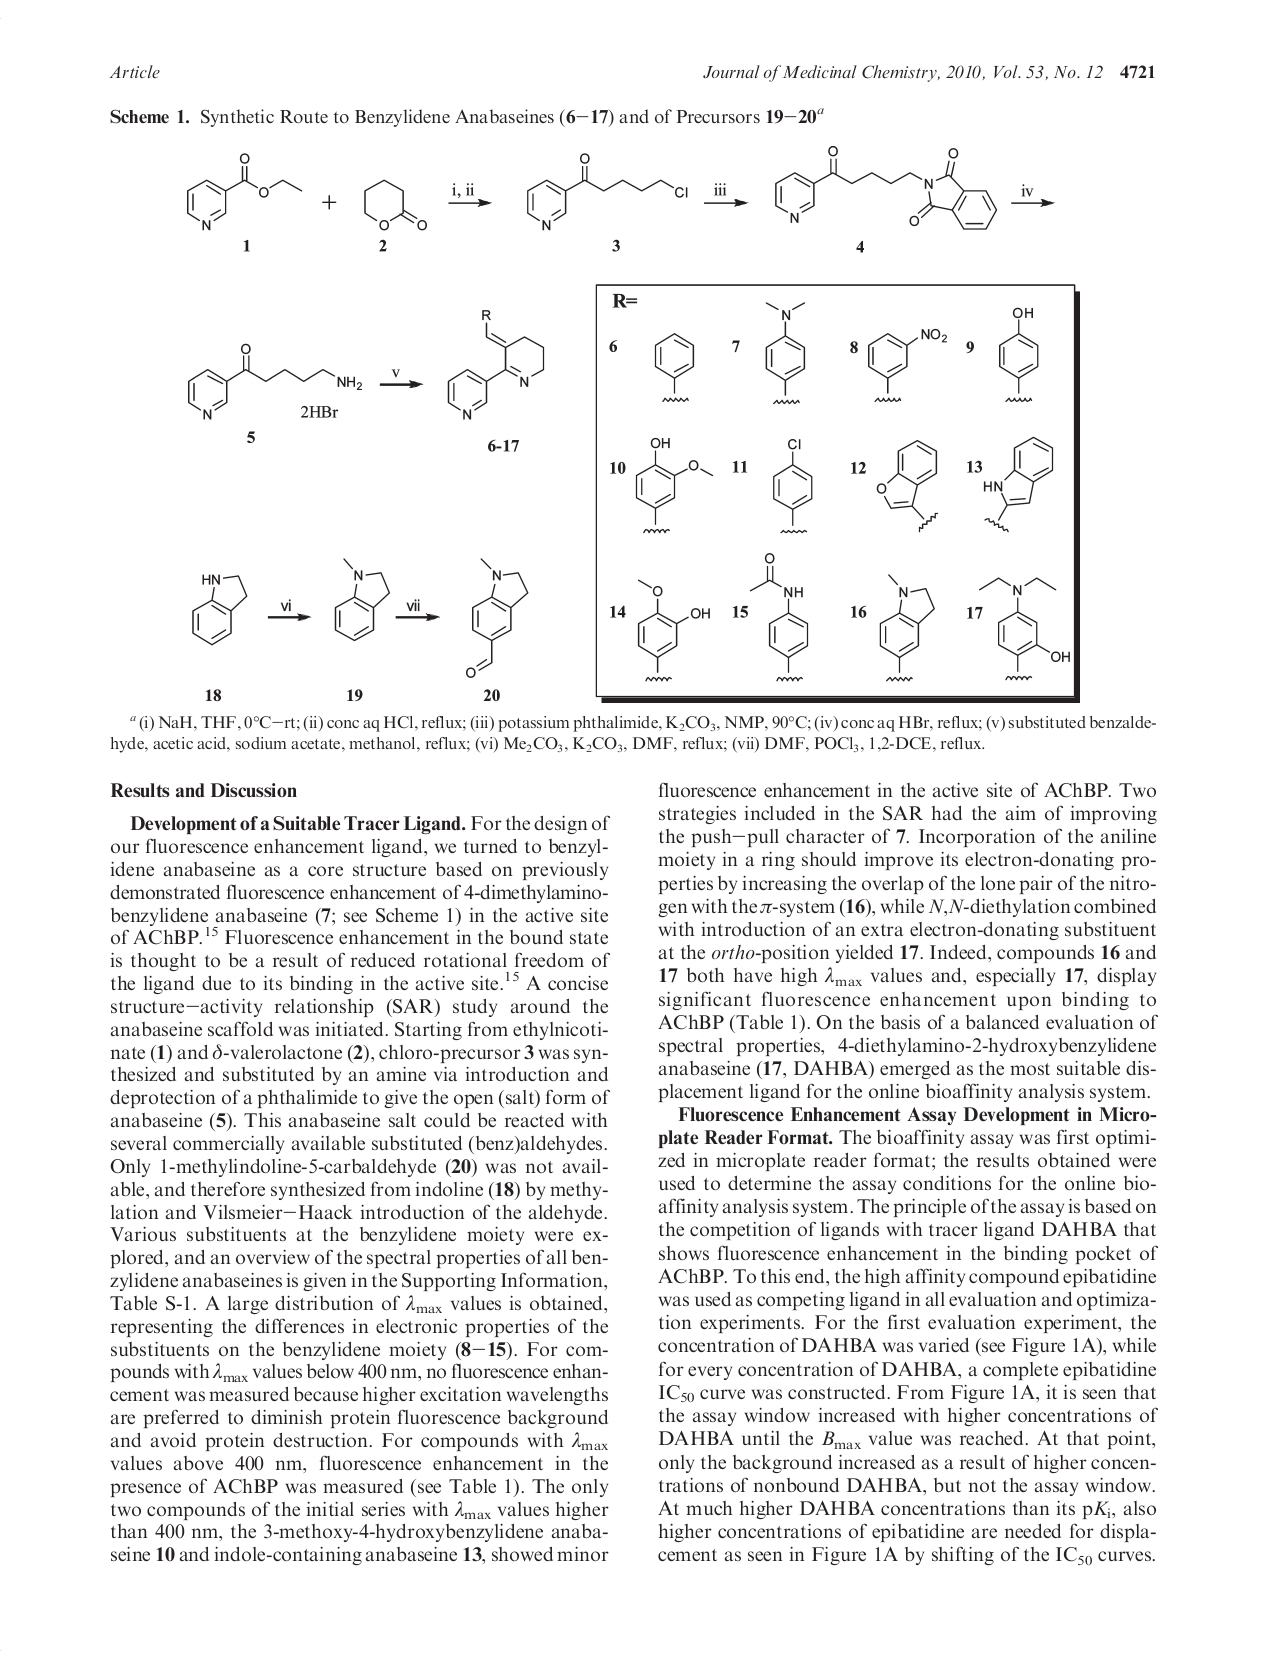exist_molecular: (769, 141, 1004, 231), (182, 339, 368, 431), (523, 148, 692, 237), (436, 307, 560, 426), (452, 549, 532, 685), (174, 156, 310, 233), (977, 567, 1060, 692), (630, 431, 719, 543), (750, 545, 818, 684), (632, 577, 715, 688), (862, 317, 964, 406), (981, 430, 1059, 537), (746, 291, 813, 410), (870, 431, 946, 535), (324, 545, 400, 645), (765, 430, 828, 541), (182, 563, 257, 657), (882, 569, 940, 685), (354, 173, 440, 239), (996, 301, 1047, 407), (648, 328, 703, 411)
